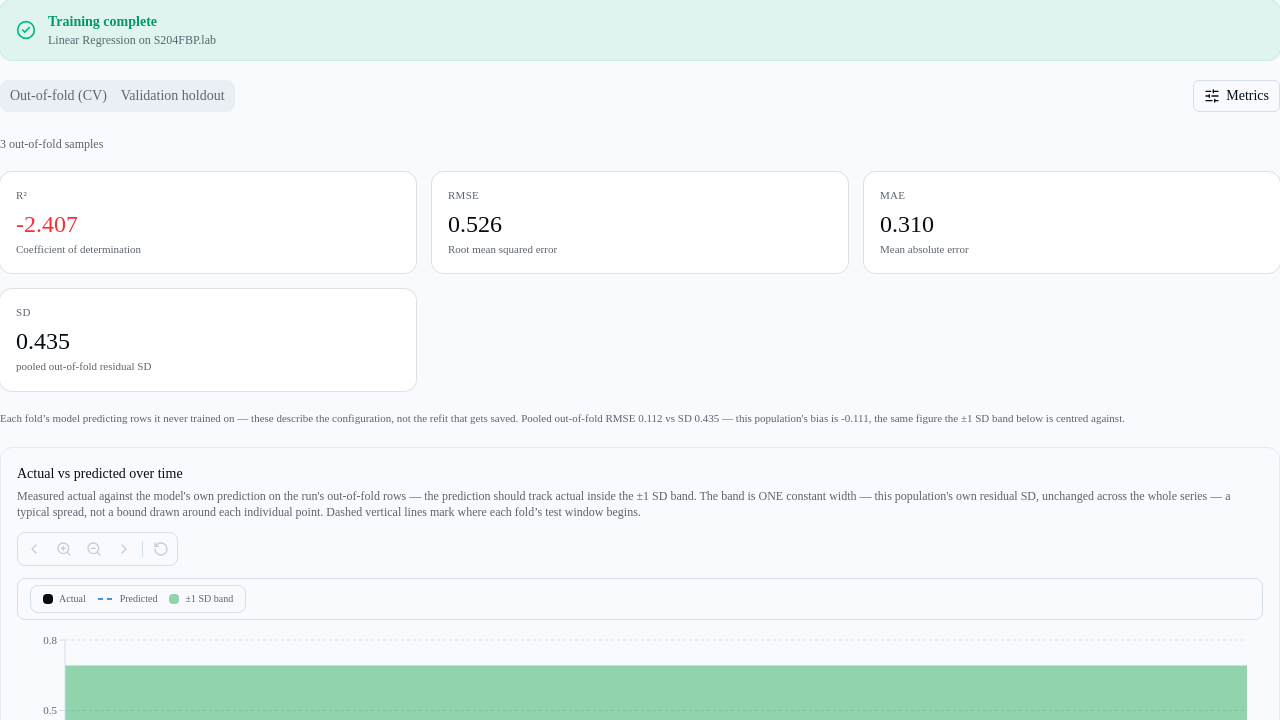
Test case: Phase5Evaluation parity scatter (MODEL-FLOW-019-T13) › names the OUT-OF-FOLD series for a CV run's parity scatter, and the VALIDATION holdout on its other tab
The image size is (1280, 720).
Expected: the text "Each validation holdout row" is not shown
Step 1. Click the tab "Validation holdout" → x=173, y=96, box [114,83,232,109]
(page scrolled)
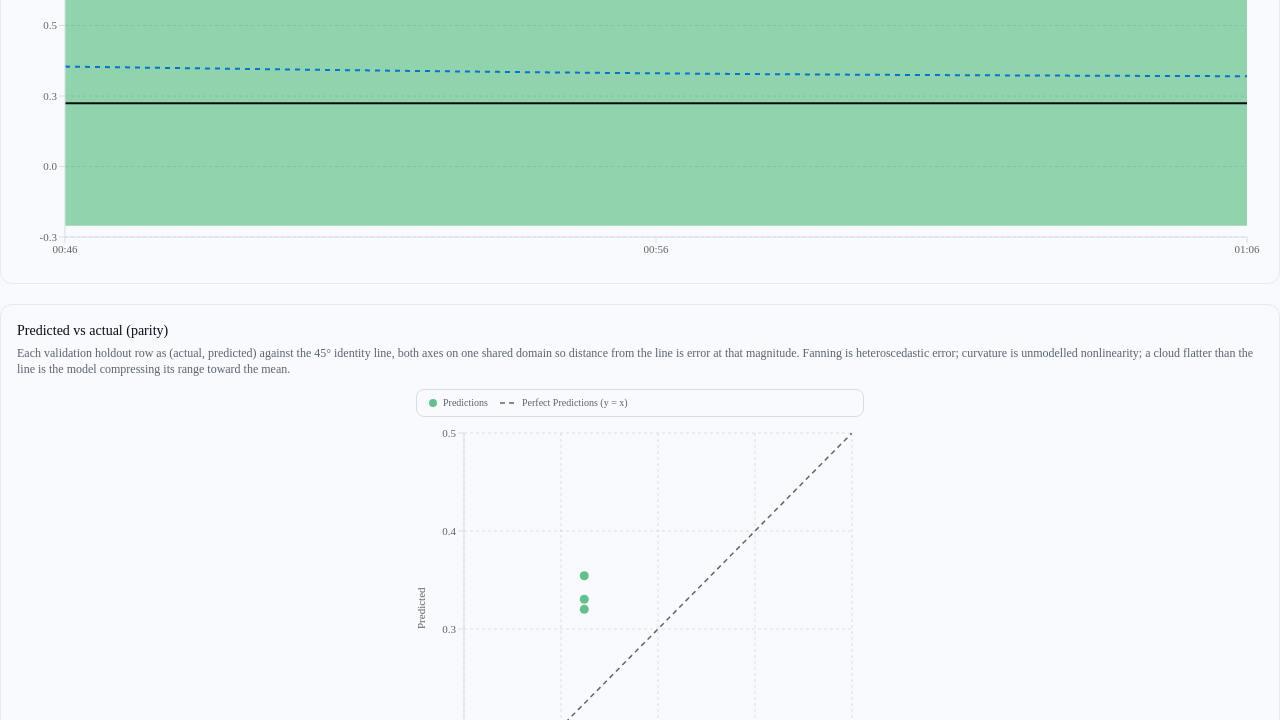
Result: the text "Each validation holdout row" is shown at [17,345,1263,377]
